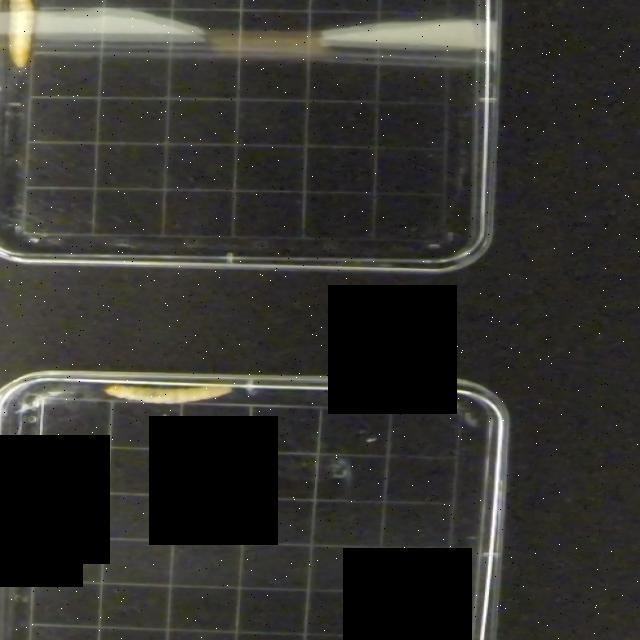larva: (101, 384, 233, 406), (0, 0, 40, 68)
